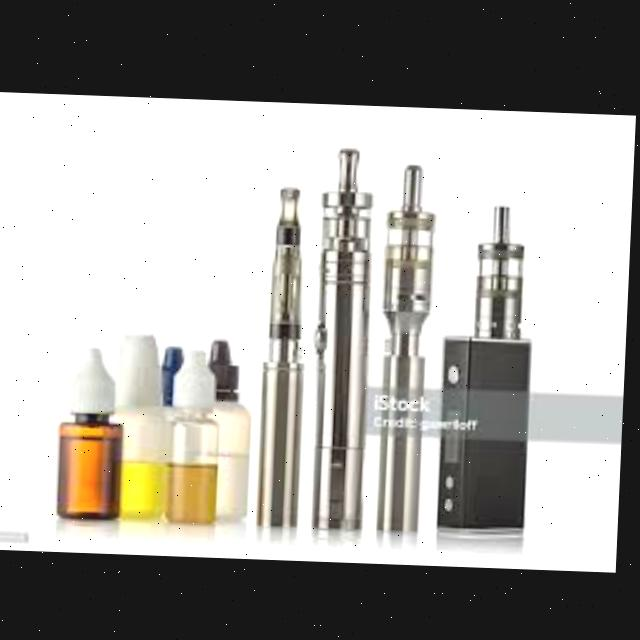vape: (441, 198, 541, 531), (311, 144, 380, 527), (377, 161, 441, 532), (261, 184, 315, 528)
